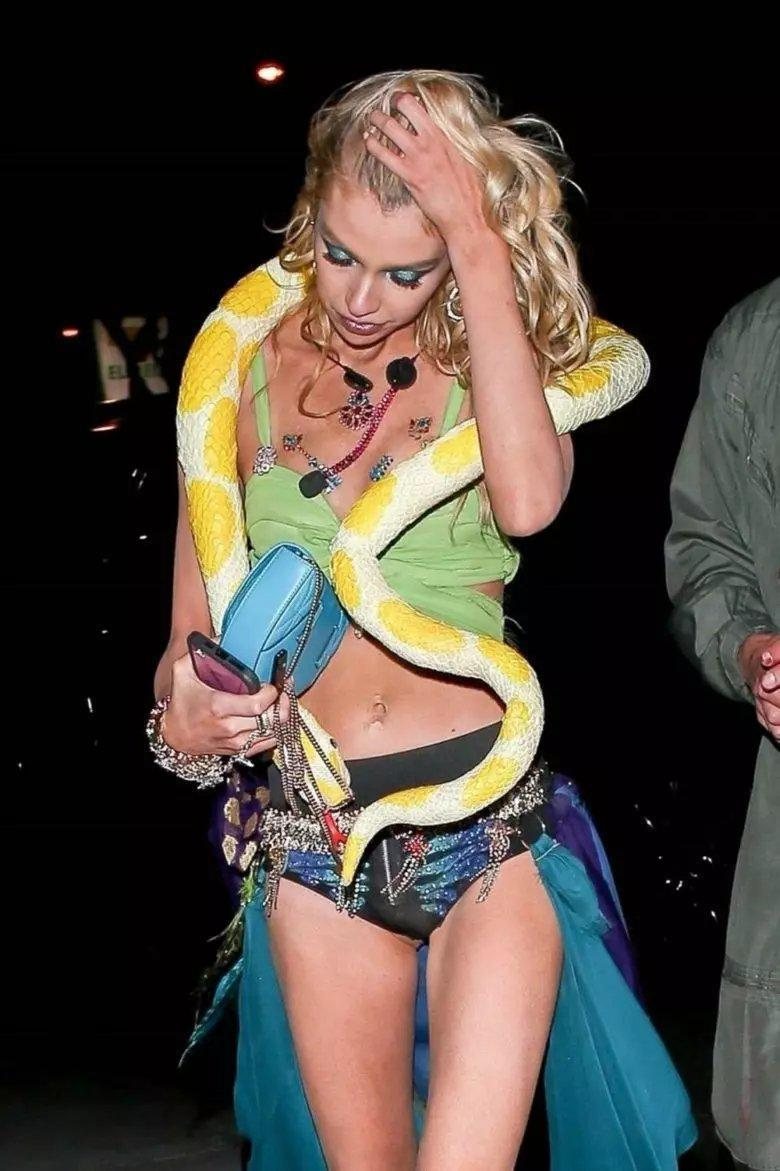Drunk: (311, 156, 433, 343)
